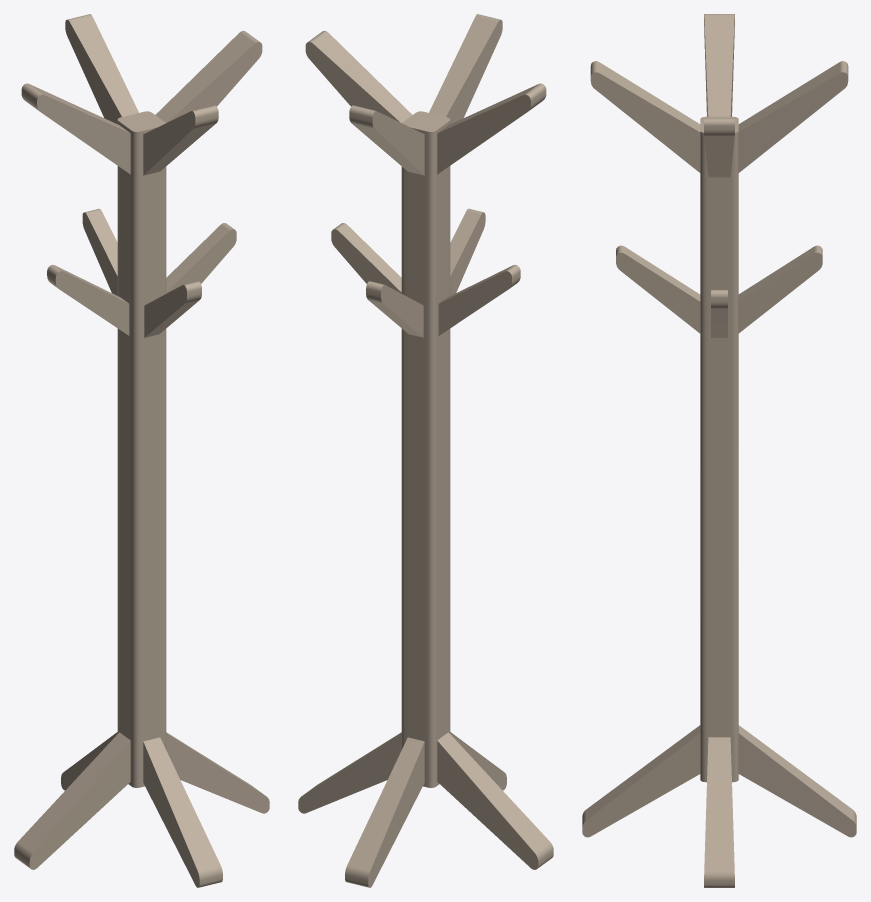
The model's file is PorteManteau1_3.fbx.
3 views of the same model, side by side, from view 1: azimuth 30°, elevation 25°; view 2: azimuth 150°, elevation 25°; view 3: azimuth 270°, elevation 25° (orthographic).
Parts seen in each view (by area): view 1: pCube177, pCube174, pCube175, pCube176, pCube178; view 2: pCube177, pCube174, pCube175, pCube178, pCube176; view 3: pCube177, pCube176, pCube178, pCube175.
Part boxes in pixels (box(x1,y1,x2,y2)): pCube177: box(14, 14, 269, 887); pCube174: box(47, 264, 129, 335); pCube175: box(166, 223, 236, 293); pCube176: box(144, 281, 201, 337); pCube178: box(82, 208, 117, 295); pCube177: box(298, 14, 553, 887); pCube174: box(438, 264, 520, 335); pCube175: box(331, 223, 401, 293); pCube178: box(366, 281, 423, 337); pCube176: box(450, 208, 485, 295); pCube177: box(582, 14, 856, 887); pCube176: box(616, 245, 700, 333); pCube178: box(738, 245, 822, 333); pCube175: box(711, 290, 727, 337).
Bounding box in the file's own units: 20.93 × 64.42 × 20.93.
